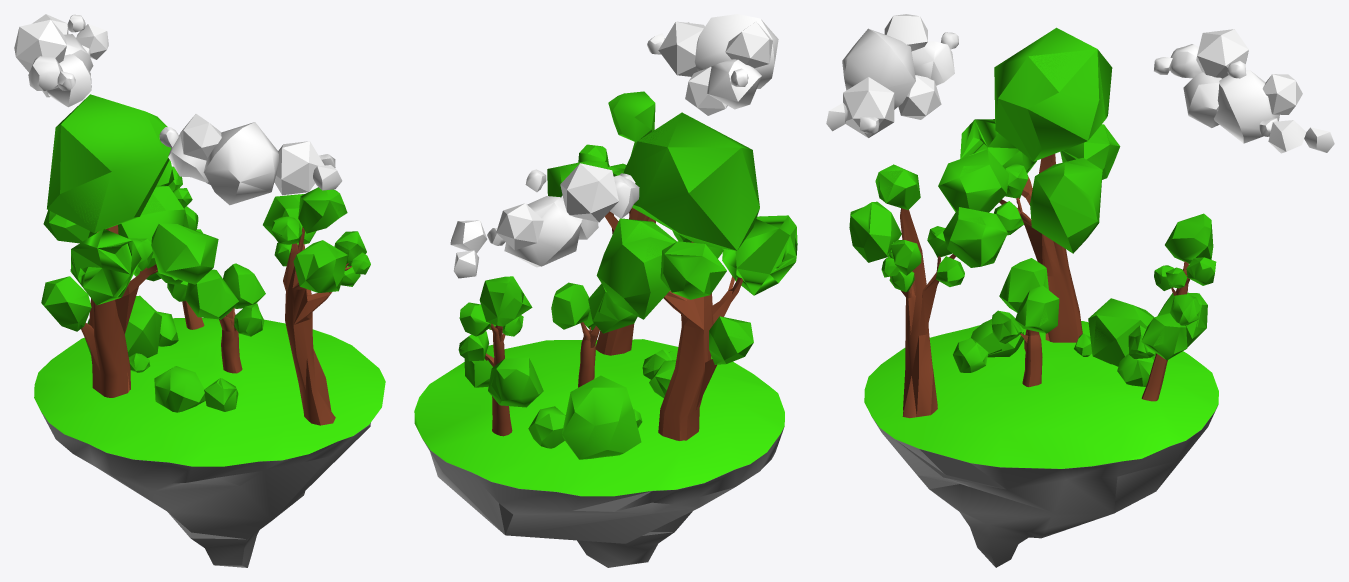
File: SceneForSaleDone.fbx
3 views of the same model, side by side, from view 1: azimuth 30°, elevation 25°; view 2: azimuth 150°, elevation 25°; view 3: azimuth 270°, elevation 25° (orthographic). The views are drawn at different scales.
Visible parts, largest first — view 1: Grass, Rock, Объект_Платоново_тело_1_6, stem, Объект_Платоново_тело_1_4, Stem, Объект_Платоново_тело_6_2, Объект_Платоново_тело_8_2, Объект_Платоново_тело_17, Объект_Платоново_тело_2_2, Объект_Платоново_тело_14, Объект_Платоново_тело_10_3 (+21 smaller); view 2: Grass, Rock, Объект_Платоново_тело_1_6, Stem, Объект_Платоново_тело_2_2, Объект_Платоново_тело_1_5, Объект_Платоново_тело_6_2, Объект_Платоново_тело_16, Объект_Платоново_тело_1_2, Объект_Платоново_тело_8, Объект_Платоново_тело_1_4, Объект_Платоново_тело_9_5 (+23 smaller); view 3: Grass, Rock, Объект_Платоново_тело_1_6, Объект_Платоново_тело_2_2, stem, Объект_Платоново_тело_1_4, Stem, Объект_Платоново_тело_8_2, Объект_Платоново_тело_1_2, Объект_Платоново_тело_8_3, Объект_Платоново_тело_1_5, Объект_Платоново_тело_17 (+27 smaller).
Boxes of the visible parts, <box> form: Grass: <box>34,318,385,466</box>; Rock: <box>41,412,378,567</box>; Объект_Платоново_тело_1_6: <box>47,94,171,233</box>; stem: <box>283,227,351,425</box>; Объект_Платоново_тело_1_4: <box>203,122,278,205</box>; Stem: <box>81,225,157,397</box>; Объект_Платоново_тело_6_2: <box>70,229,141,305</box>; Объект_Платоново_тело_8_2: <box>151,223,218,284</box>; Объект_Платоново_тело_17: <box>293,240,347,292</box>; Объект_Платоново_тело_2_2: <box>118,185,184,268</box>; Объект_Платоново_тело_14: <box>274,141,324,195</box>; Объект_Платоново_тело_10_3: <box>41,276,91,331</box>; Grass: <box>414,339,784,496</box>; Rock: <box>422,426,784,567</box>; Объект_Платоново_тело_1_6: <box>623,112,759,250</box>; Stem: <box>658,241,743,440</box>; Объект_Платоново_тело_2_2: <box>596,218,676,319</box>; Объект_Платоново_тело_1_5: <box>562,375,641,459</box>; Объект_Платоново_тело_6_2: <box>722,215,797,295</box>; Объект_Платоново_тело_16: <box>660,241,726,299</box>; Объект_Платоново_тело_1_2: <box>504,196,581,267</box>; Объект_Платоново_тело_8: <box>560,163,618,222</box>; Объект_Платоново_тело_1_4: <box>694,14,778,88</box>; Объект_Платоново_тело_9_5: <box>488,357,543,407</box>; Grass: <box>864,321,1218,468</box>; Rock: <box>872,406,1217,567</box>; Объект_Платоново_тело_1_6: <box>994,27,1112,161</box>; Объект_Платоново_тело_2_2: <box>1030,158,1102,253</box>; stem: <box>890,208,955,418</box>; Объект_Платоново_тело_1_4: <box>842,28,915,109</box>; Stem: <box>999,154,1082,342</box>; Объект_Платоново_тело_8_2: <box>938,149,1008,212</box>; Объект_Платоново_тело_1_2: <box>1214,70,1279,143</box>; Объект_Платоново_тело_8_3: <box>943,207,1007,267</box>; Объект_Платоново_тело_1_5: <box>1088,298,1155,366</box>; Объект_Платоново_тело_17: <box>849,201,901,262</box>.
Size of the model in its own units: 204 by 315 by 286.
